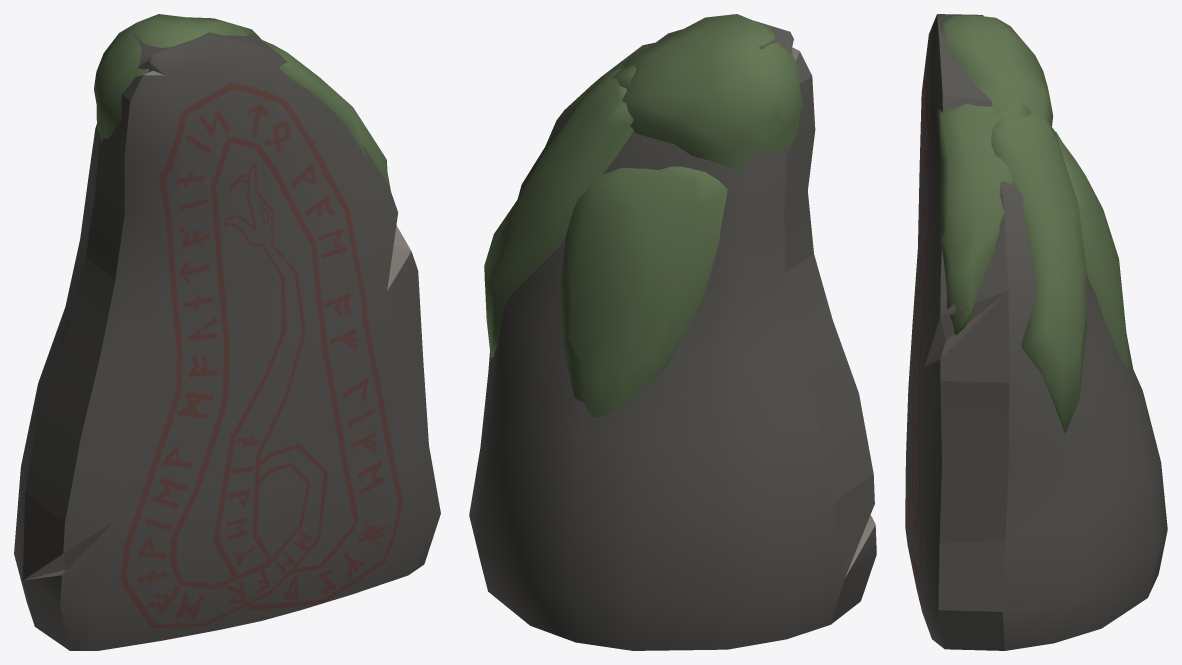
File: P_runestone_01_LD.fbx
3 renders of one model, left to right at view 1: azimuth 30°, elevation 25°; view 2: azimuth 150°, elevation 25°; view 3: azimuth 270°, elevation 25°, orthographic. The views are drawn at different scales.
Parts seen in each view (by area): view 1: P_runestone_01; view 2: P_runestone_01; view 3: P_runestone_01.
Part boxes in pixels (x1,y1,x2,y2): P_runestone_01: (14, 14, 440, 650); P_runestone_01: (469, 14, 876, 650); P_runestone_01: (905, 14, 1167, 650).
Bounding box in the file's own units: 136 × 200 × 90.34.
1 material, 1 textured.
